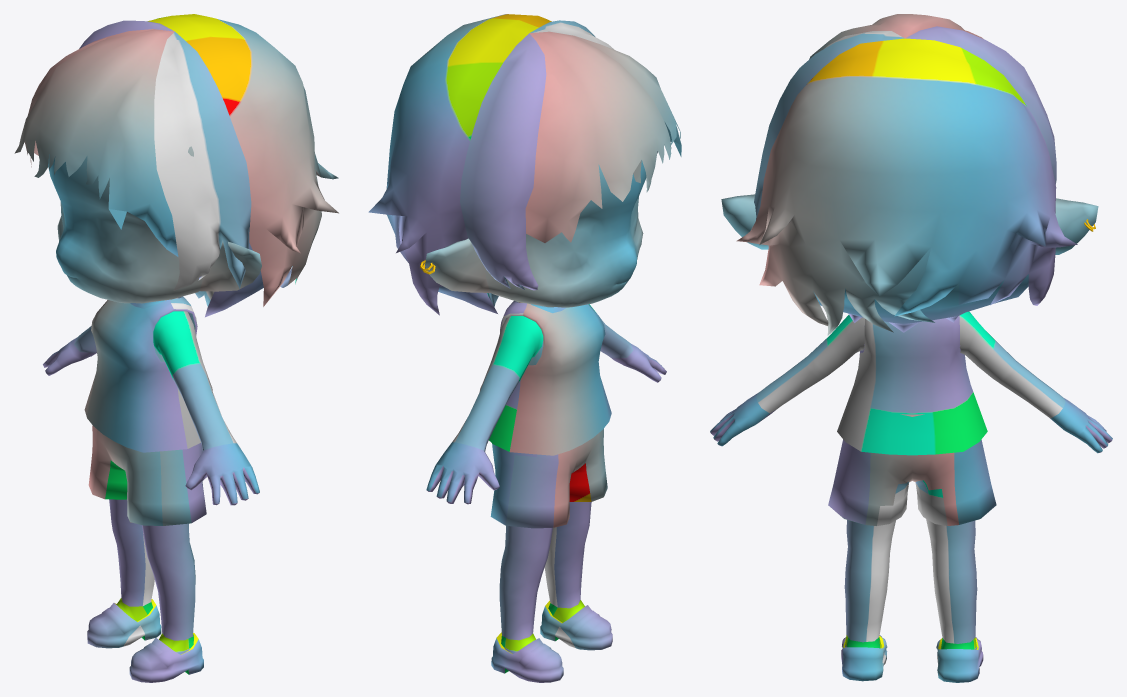
The model's file is glasses_none.gltf.fbx.
The picture shows the model from 3 angles, left to right: view 1: azimuth 30°, elevation 25°; view 2: azimuth 150°, elevation 25°; view 3: azimuth 270°, elevation 25°; orthographic projection. The views are drawn at different scales.
Visible parts, largest first — view 1: hair_short_darkgrey.gltf, miilady_body_base.gltf, shirt_beertank.gltf, pants_clayshorts.gltf, shoes_clogs_blue.gltf; view 2: hair_short_darkgrey.gltf, miilady_body_base.gltf, shirt_beertank.gltf, pants_clayshorts.gltf, shoes_clogs_blue.gltf; view 3: hair_short_darkgrey.gltf, miilady_body_base.gltf, shirt_beertank.gltf, pants_clayshorts.gltf, shoes_clogs_blue.gltf.
Boxes of the visible parts, bbox=[...] form: hair_short_darkgrey.gltf: bbox=[14, 14, 338, 317]; miilady_body_base.gltf: bbox=[43, 146, 261, 654]; shirt_beertank.gltf: bbox=[84, 296, 200, 452]; pants_clayshorts.gltf: bbox=[88, 425, 206, 525]; shoes_clogs_blue.gltf: bbox=[87, 599, 203, 682]; hair_short_darkgrey.gltf: bbox=[368, 14, 681, 315]; miilady_body_base.gltf: bbox=[425, 160, 666, 653]; shirt_beertank.gltf: bbox=[489, 301, 611, 455]; pants_clayshorts.gltf: bbox=[490, 428, 607, 528]; shoes_clogs_blue.gltf: bbox=[491, 600, 612, 682]; hair_short_darkgrey.gltf: bbox=[736, 14, 1077, 335]; miilady_body_base.gltf: bbox=[710, 194, 1112, 649]; shirt_beertank.gltf: bbox=[837, 315, 987, 455]; pants_clayshorts.gltf: bbox=[828, 414, 996, 525]; shoes_clogs_blue.gltf: bbox=[841, 635, 983, 682].
Bounding box in the file's own units: 75.47 × 158 × 89.57.
7 materials, 7 textured.
